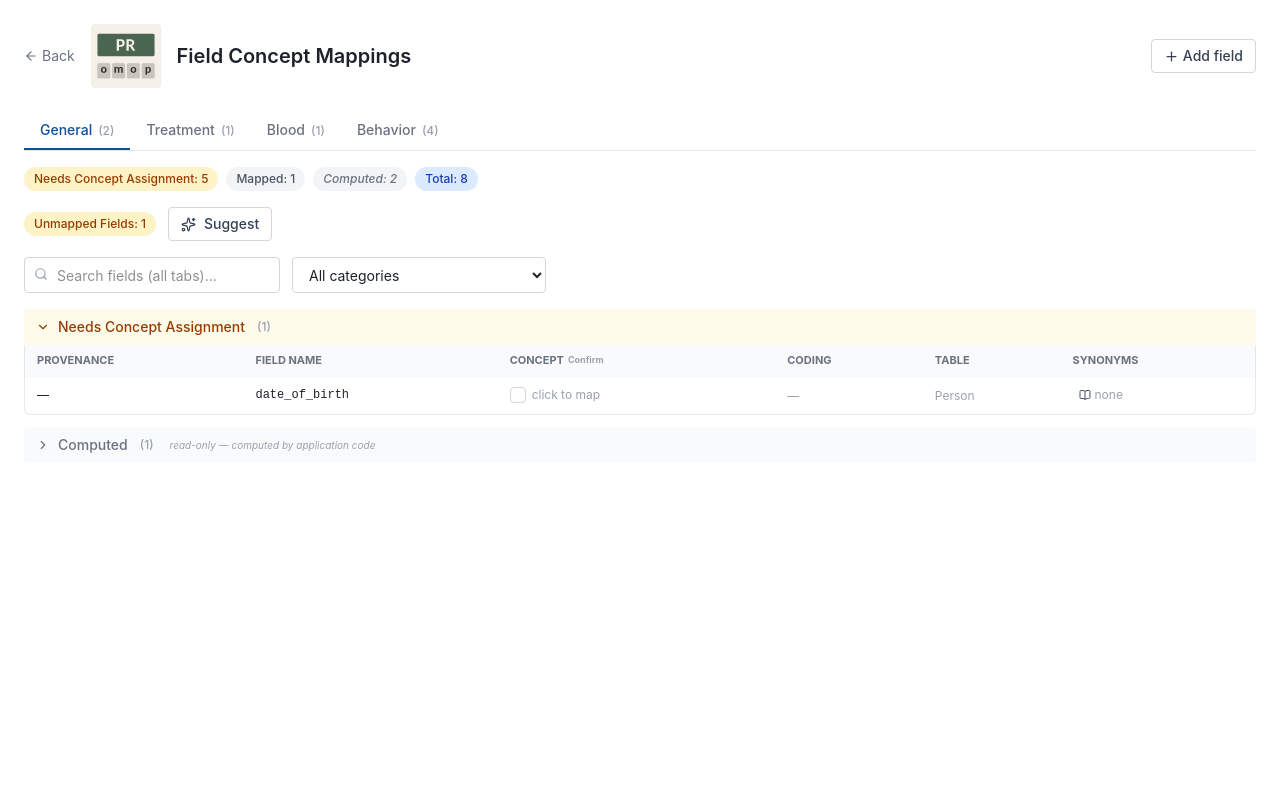
Test case: FieldMappingPage › keeps a proposed mapping out of Mapped even when its source category is editable
The width and height of the screenshot is (1280, 800).
Click the button "Behavior(4)": (398, 131) [341,112,455,150]
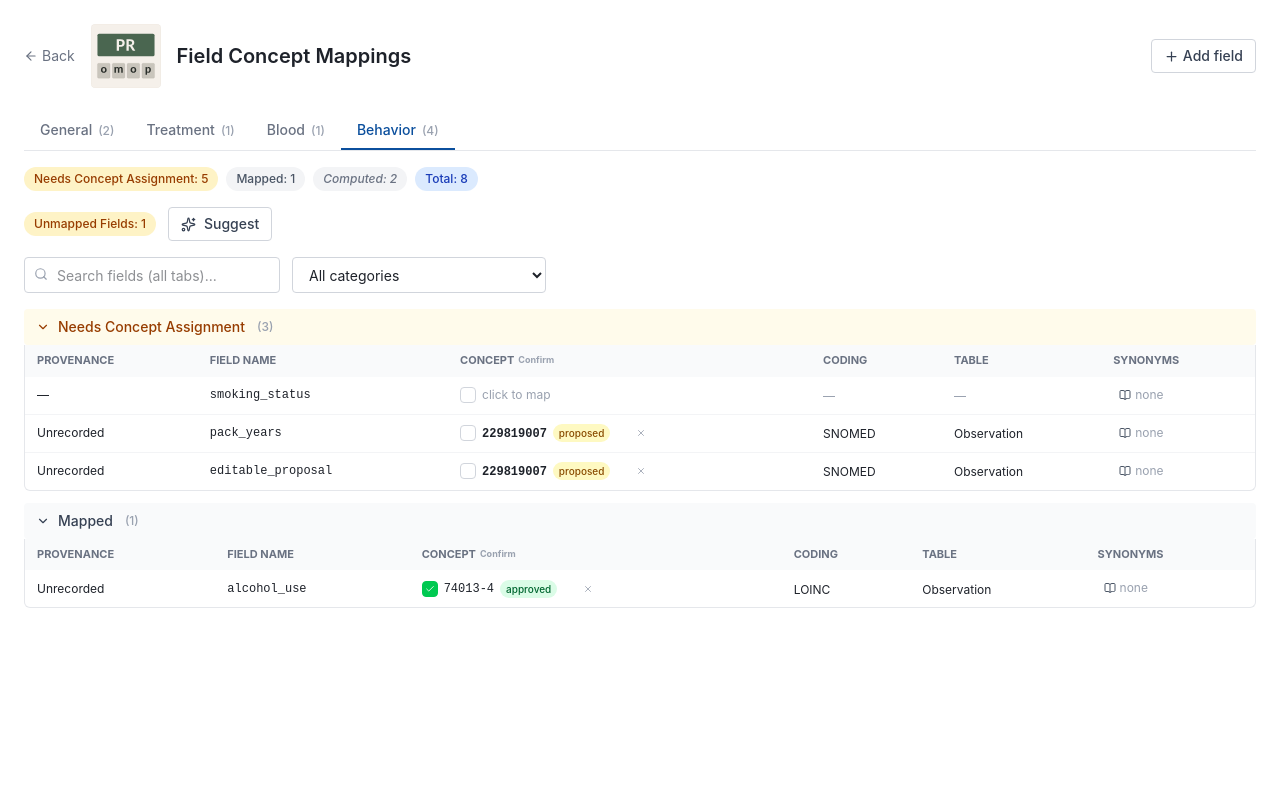
Expected: the button "Needs Concept Assignment (3)" is shown, [24,309,1256,345]
Expected: the text "Mapped" is shown, [24,503,1256,539]
